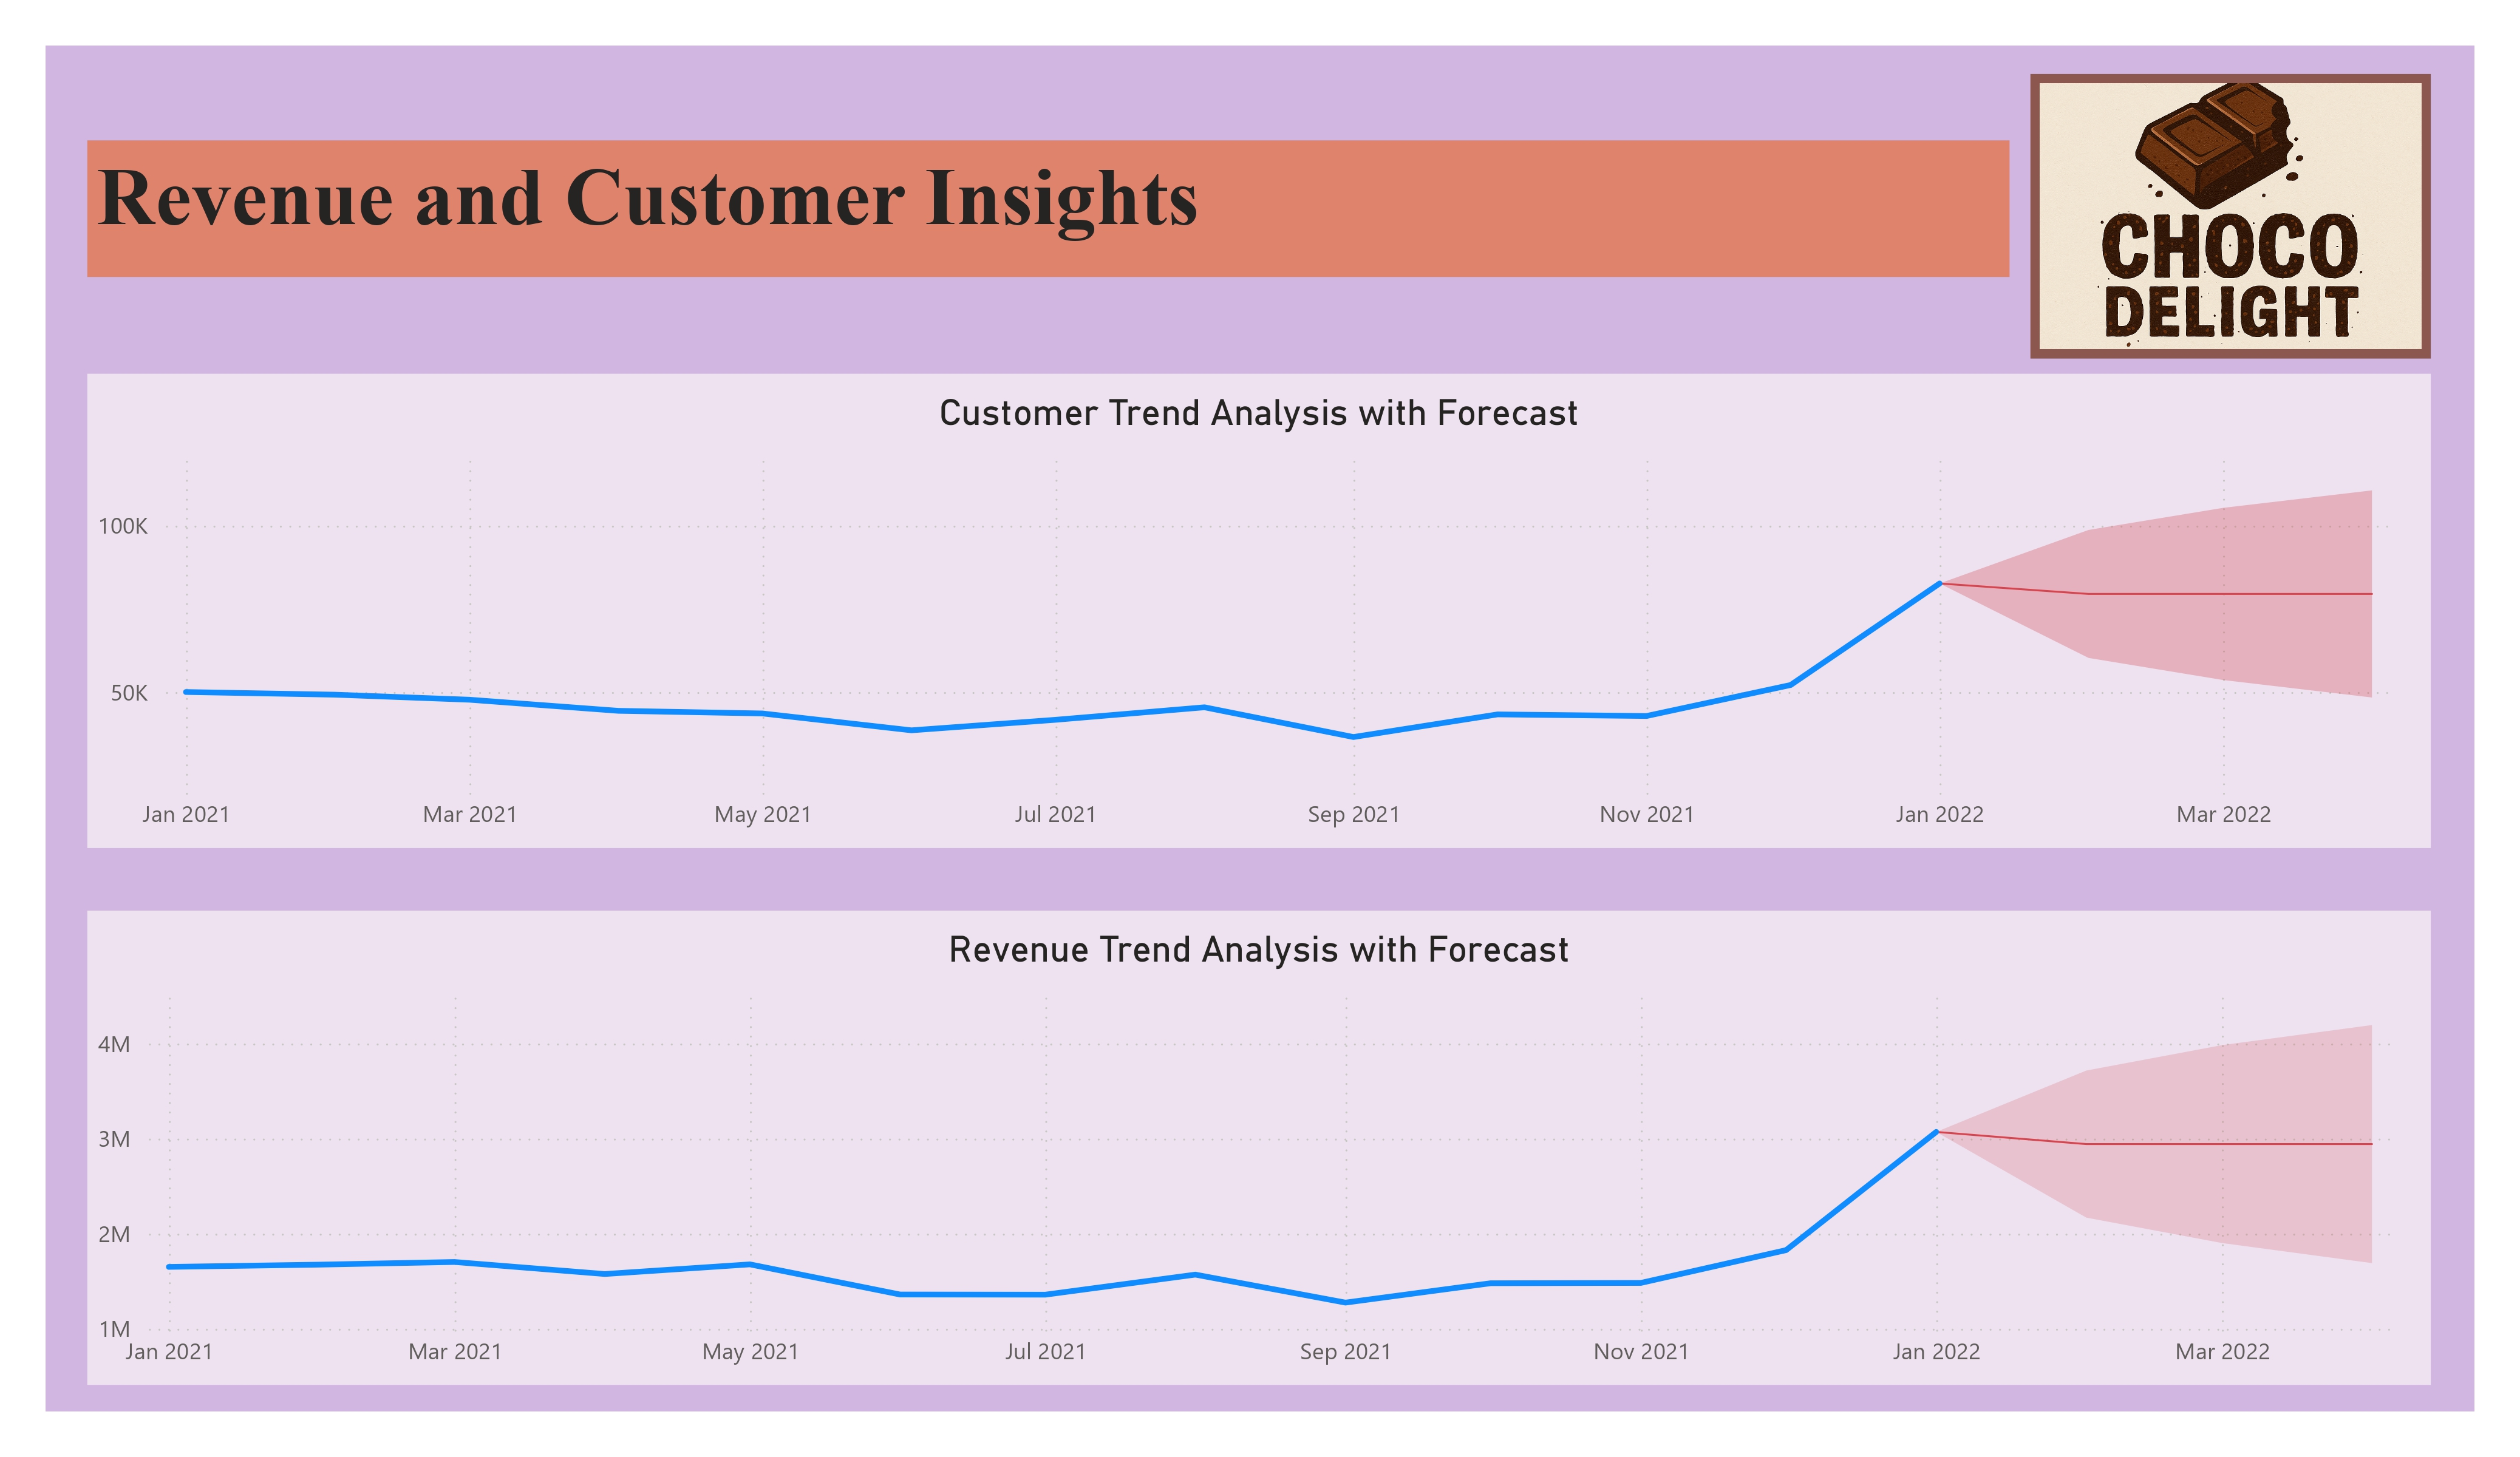

The page's visual inventory and layout, read from the dashboard file:
{"tool":"powerbi","page":{"name":"Revenue and Customer Insights","canvas":[1280,720],"ordinal":1},"visuals":[{"type":"lineChart","title":"Customer Trend Analysis with Forecast","fields":{"Y":["Sum(sales.Customers)"],"Category":["sales.Date.Variation.Date Hierarchy.Year","sales.Date.Variation.Date Hierarchy.Quarter","sales.Date.Variation.Date Hierarchy.Month"]},"box":[22.1,173.3,1234.9,250],"z":0},{"type":"lineChart","title":"Revenue Trend Analysis with Forecast","fields":{"Y":["Sum(sales.Amount)"],"Category":["sales.Date.Variation.Date Hierarchy.Year","sales.Date.Variation.Date Hierarchy.Month"]},"box":[22.1,455.8,1234.9,250],"z":1000},{"type":"textbox","box":[22.1,50,1012.8,72.1],"z":2000},{"type":"image","box":[1045.6,14.9,211.3,150.4],"z":3000}]}

Visuals, with their boxes in screenshot pixels (x1, y1, x2, y2):
"Customer Trend Analysis with Forecast" lineChart: 87 375 2431 849
"Revenue Trend Analysis with Forecast" lineChart: 87 910 2431 1385
textbox: 87 140 2009 277
image: 2029 74 2431 359
